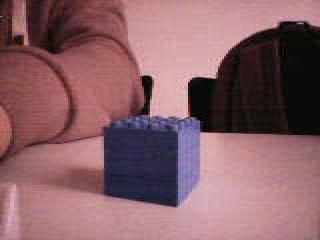legocube: (99, 112, 205, 208)
